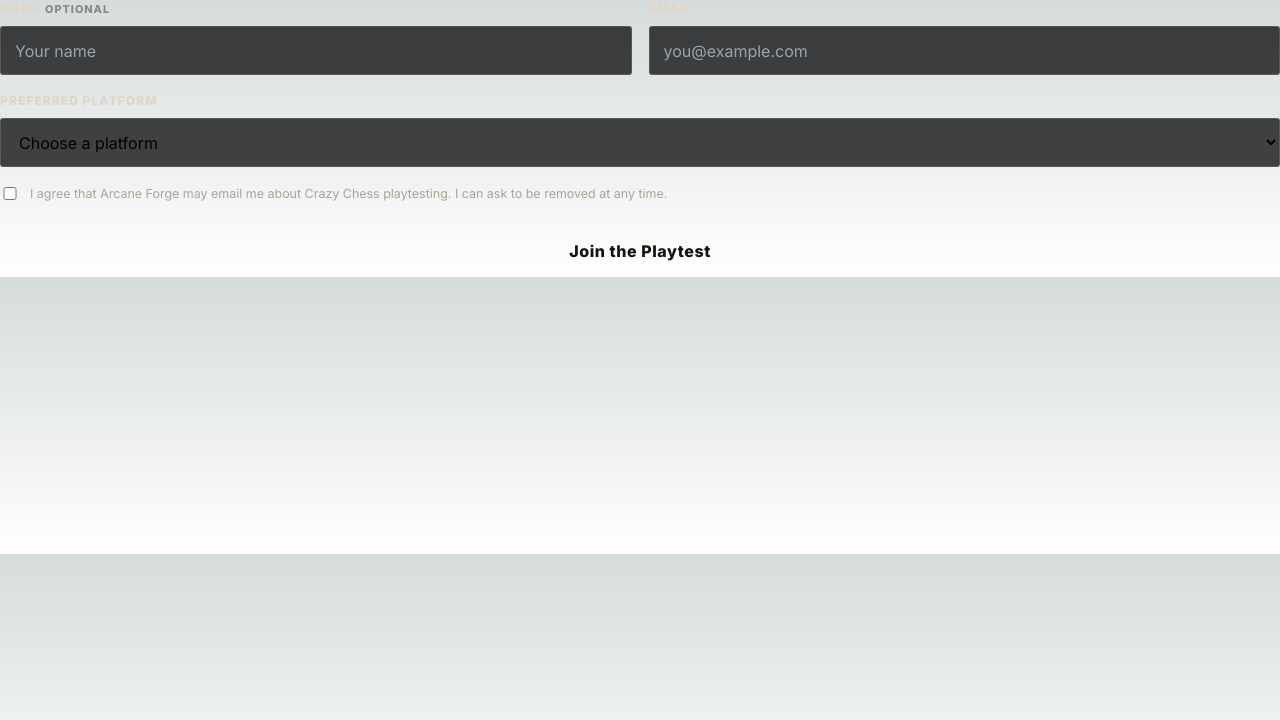
PlaytestSignupForm › shows inline validation before submitting
This screenshot has width=1280, height=720.
What coordinates should you click on to do the following:
click the button "Join the Playtest"
I would click on:
 (640, 251)
Its box is [0,225,1279,277].
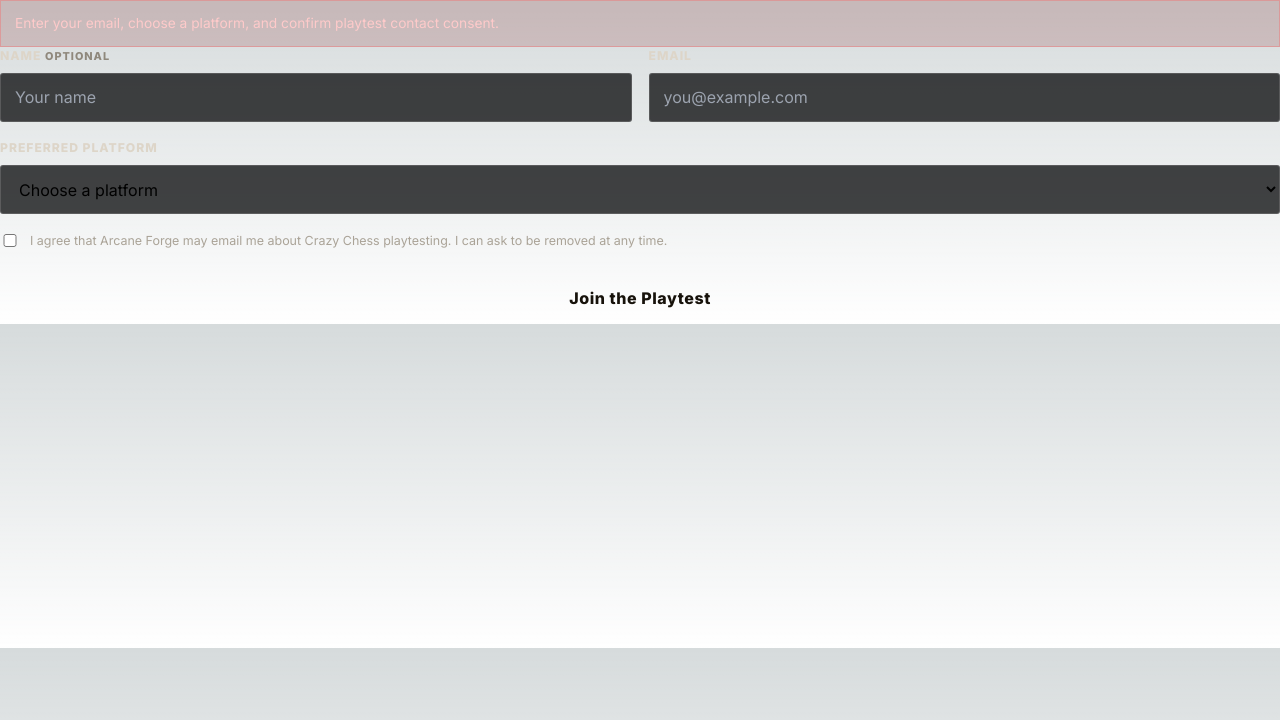
Check: the message shows "Enter your email", box [15,15,499,31]
